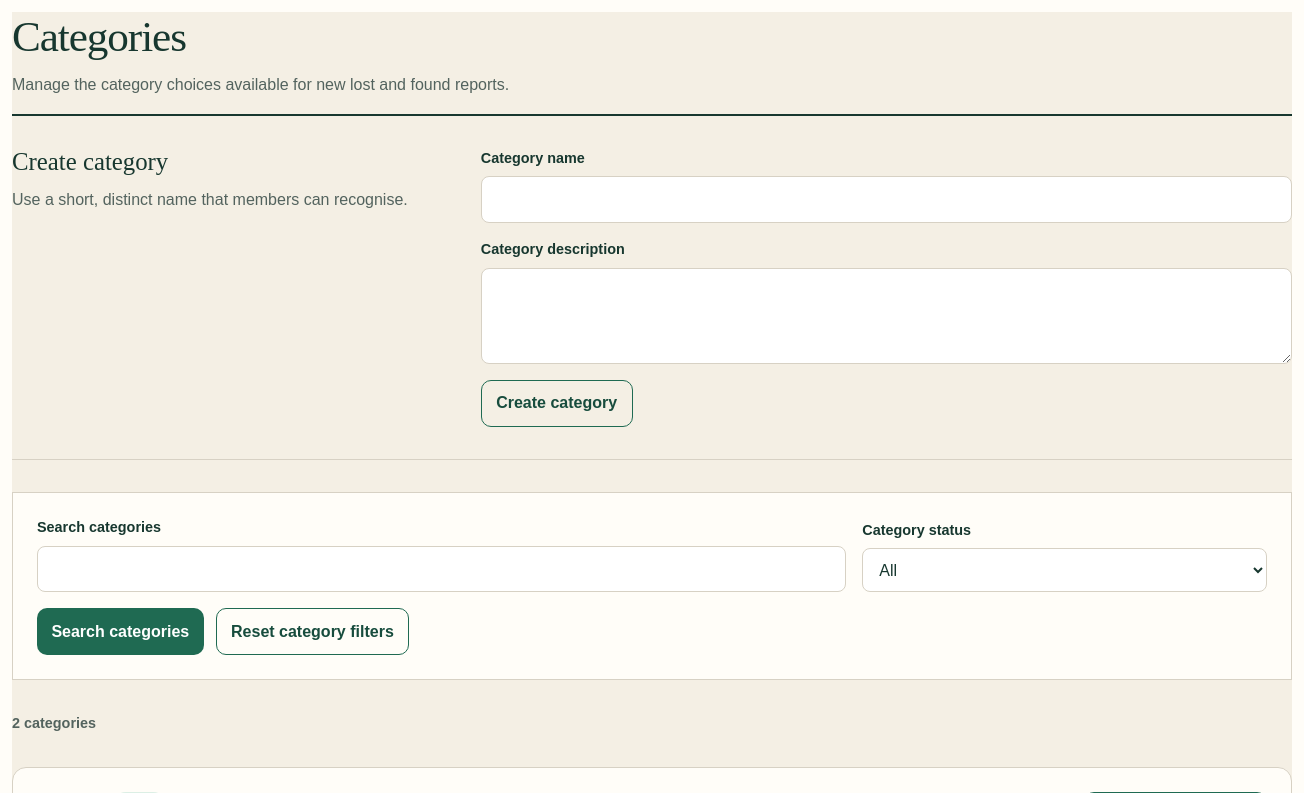
Test: validates category creation locally
Type "x" into the field labelled "Category name". click: coordinates (886, 200)
box: [481,176,1292,223]
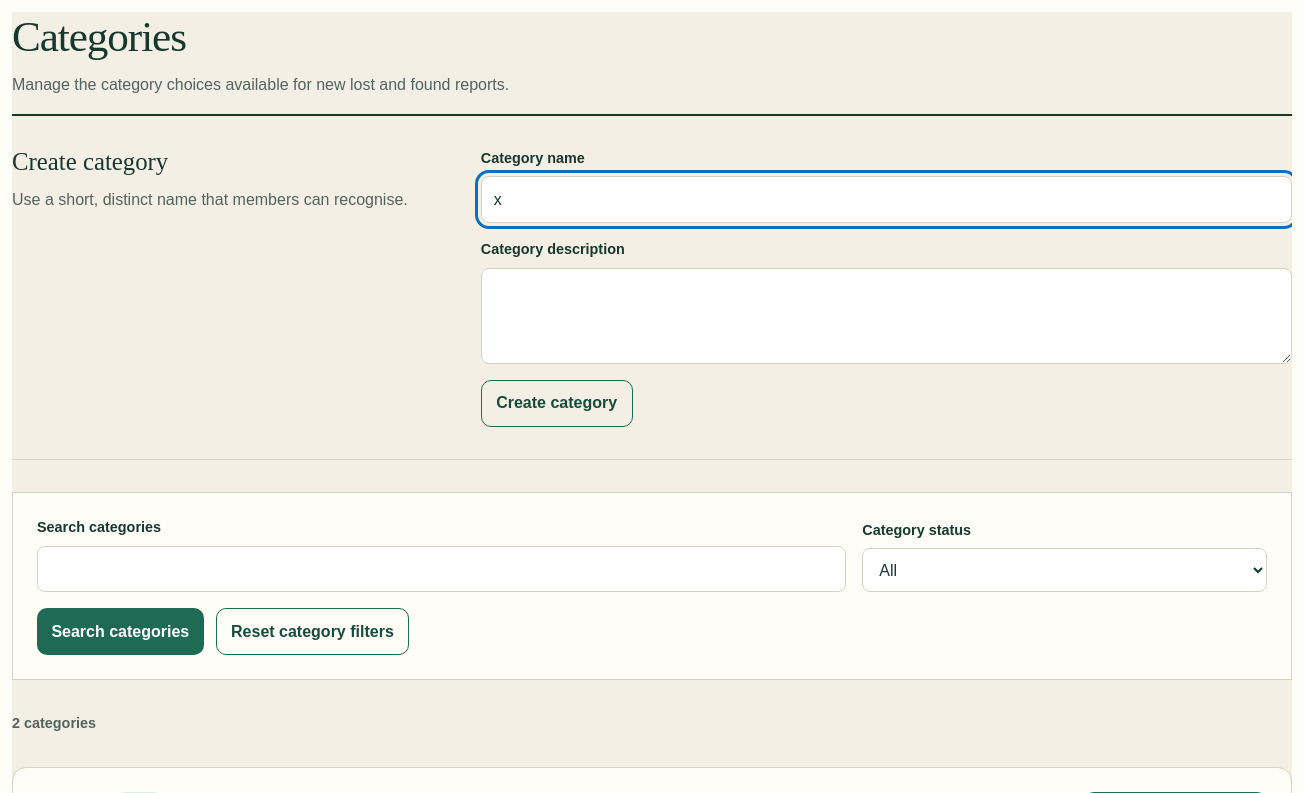
Click the button "Create category". click: coordinates (557, 403)
box: [481,380,632,427]
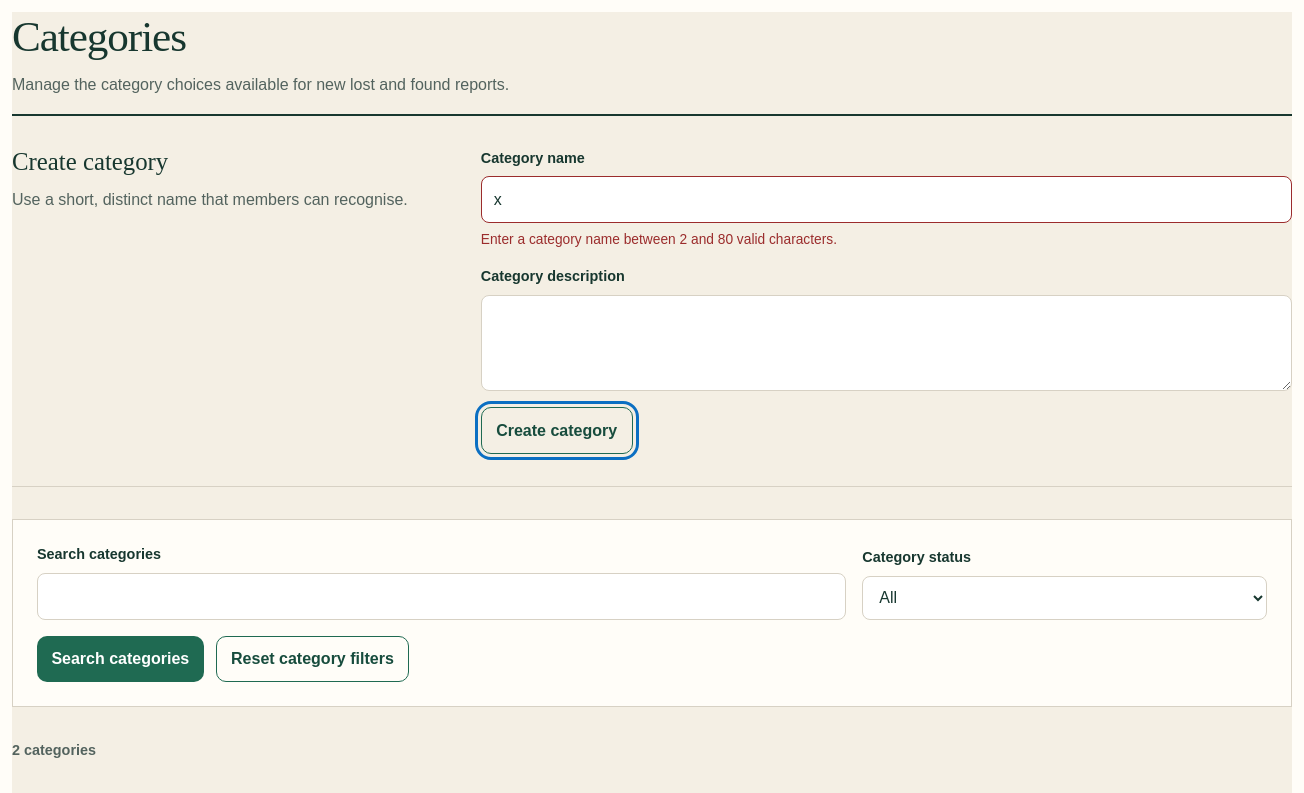
Result: the text "Enter a category name between 2 and 80 valid characters." is shown at [481,232,837,247]
